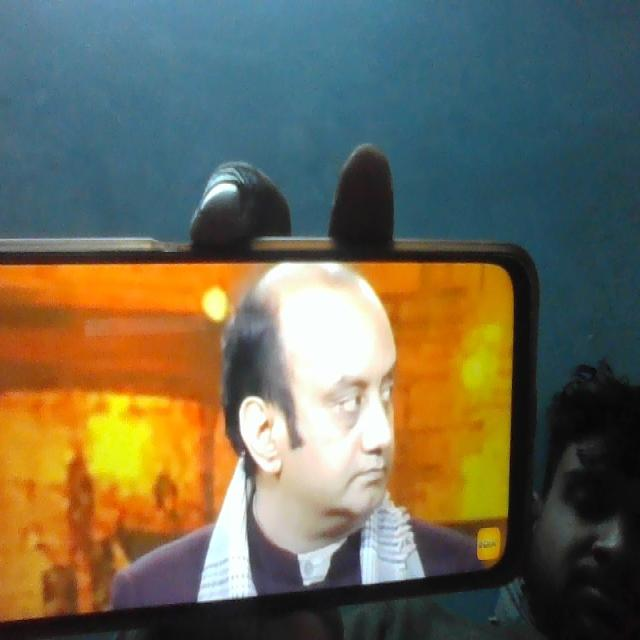fake: (260, 265, 405, 539)
